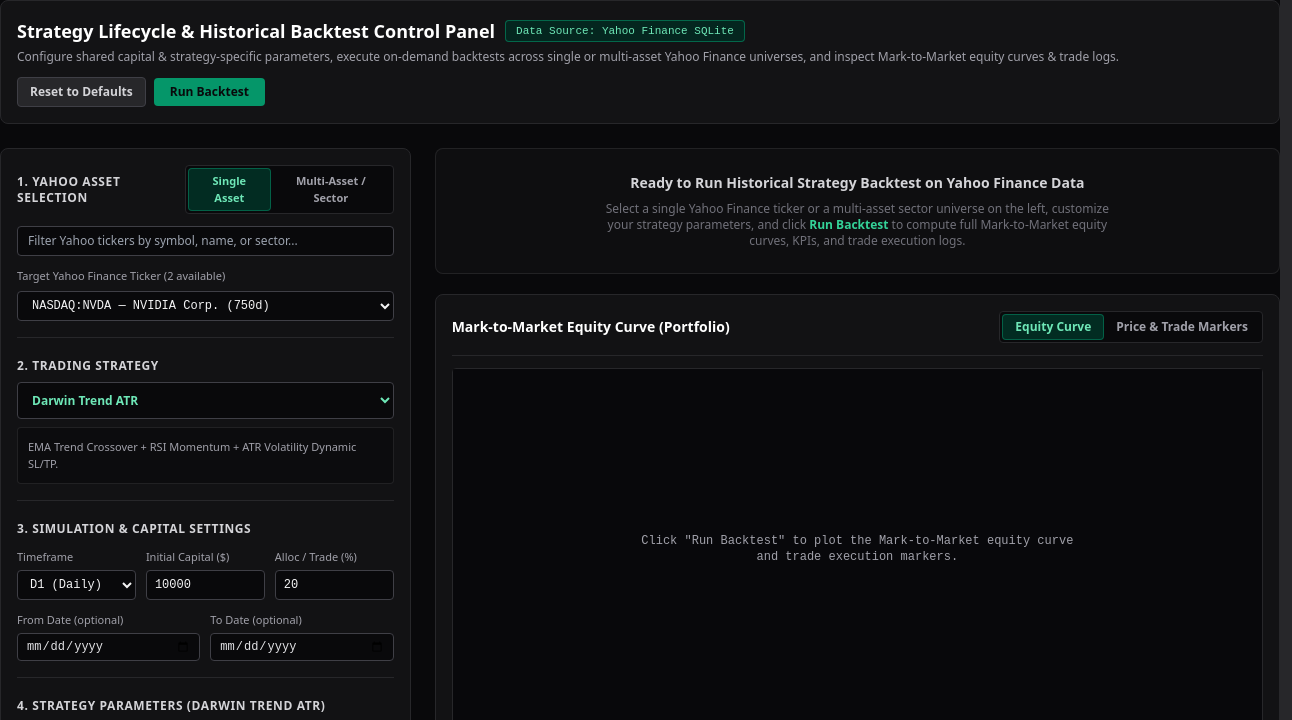
Test: StrategyLifecycleWorkspace › prioritizes tickers with price_bars_count > 0 for default selection and renders empty-chart overlay on NO_DATA results
Expected: the dropdown with test id "strategy-single-ticker-select" shows "NASDAQ:NVDA — NVIDIA Corp. (750d)", [17,290,394,320]
Note: Run backtest that returns NO_DATA + partial/undefined metrics and verify no crash + chart overlay
What coordinates should you click on to do the following:
click the button with test id "strategy-run-backtest-btn"
I would click on:
 (209, 92)
Its box is [154,78,265,106].
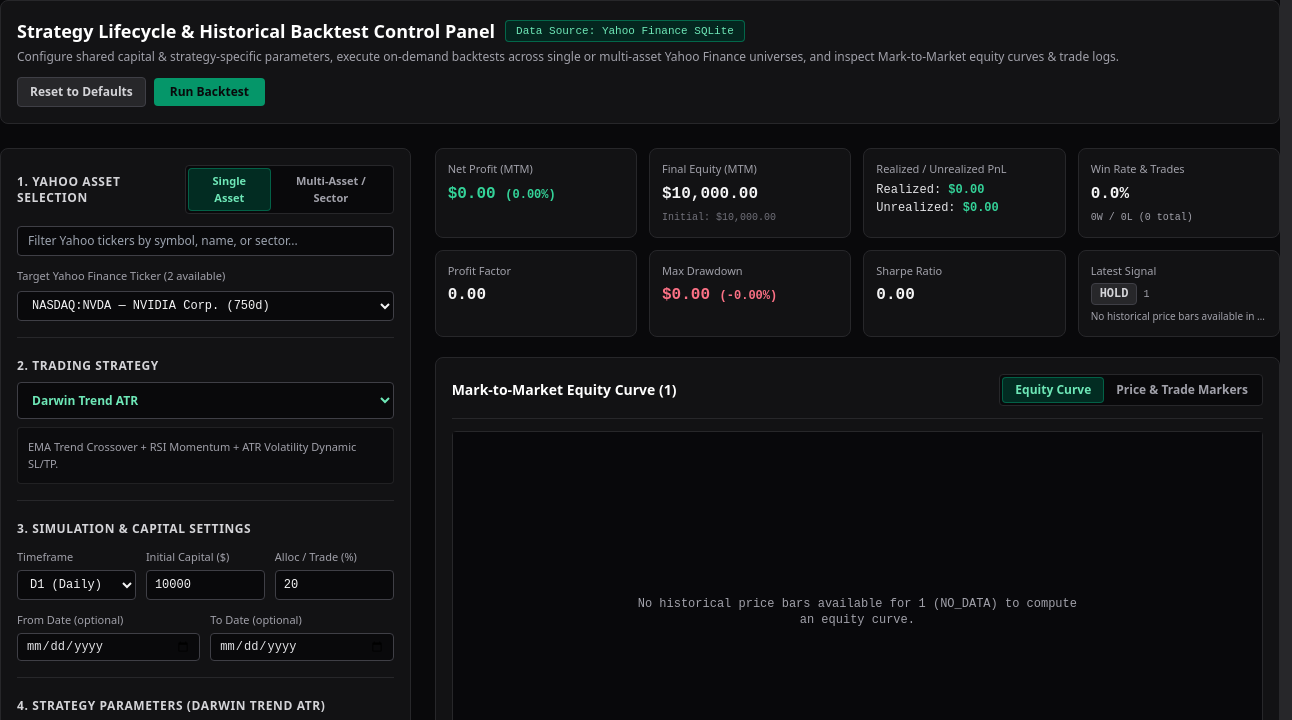
Expected: the element with test id "strategy-chart-empty-overlay" shows "No historical price bars available for 1 (NO_DATA)", [638,597,1077,627]
Expected: the text with test id "kpi-win-rate" reads "0.0%", [1091,184,1129,202]
Expected: the text with test id "kpi-profit-factor" reads "0.00", [448,286,486,304]
